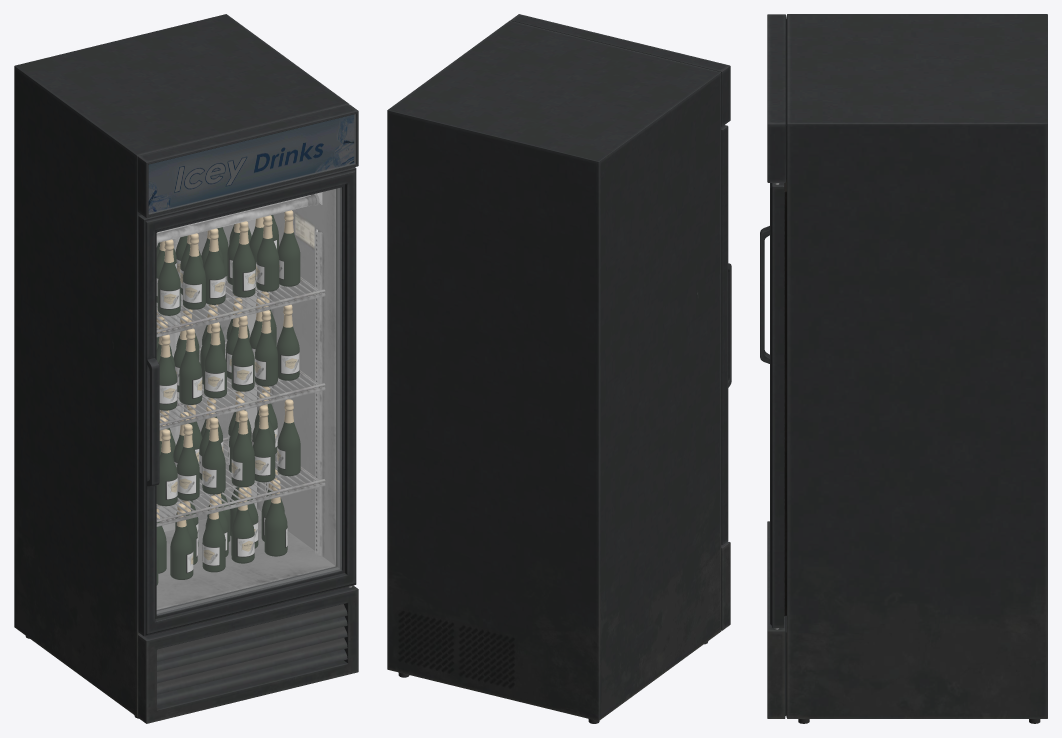
The model's file is fridge.glb.
The picture shows the model from 3 angles, left to right: view 1: azimuth 30°, elevation 25°; view 2: azimuth 150°, elevation 25°; view 3: azimuth 270°, elevation 25°; orthographic projection. The views are drawn at different scales.
Visible parts, largest first — view 1: FridgeCase, FridgeGlass, FridgeInterior, ChampagneBottles, FridgeDoor, FridgeDoorInner; view 2: FridgeCase, FridgeDoor; view 3: FridgeCase, FridgeDoor.
Part boxes in pixels (box(x1,y1,x2,y2)): FridgeCase: box(14, 14, 358, 723); FridgeGlass: box(157, 188, 339, 613); FridgeInterior: box(148, 114, 355, 609); ChampagneBottles: box(156, 210, 300, 585); FridgeDoor: box(138, 167, 356, 636); FridgeDoorInner: box(156, 187, 341, 615); FridgeCase: box(387, 14, 730, 723); FridgeDoor: box(721, 125, 731, 544); FridgeCase: box(767, 14, 1047, 723); FridgeDoor: box(760, 179, 786, 628).
Size of the model in its own units: 0.8544 by 2.18 by 0.9442.
Materials: 6 (3 with a texture image).
